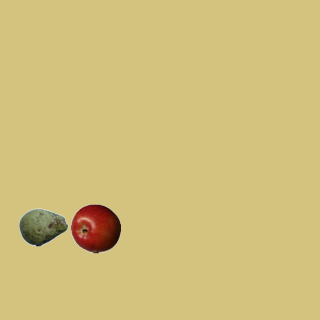Apple Braeburn: (70, 203, 120, 253)
Pear Stone: (18, 202, 68, 252)
